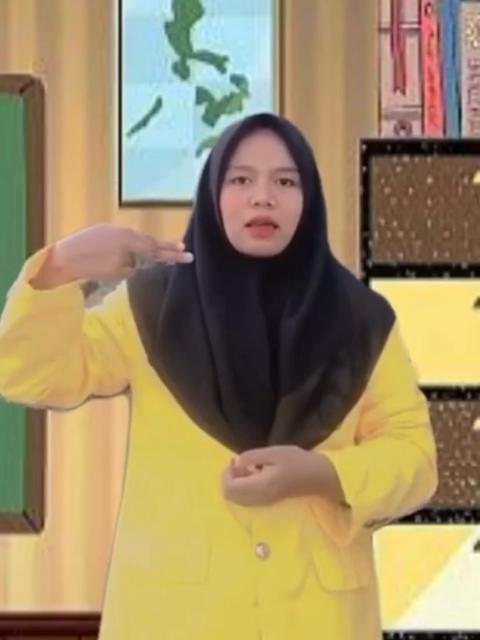H: (51, 221, 194, 293)
